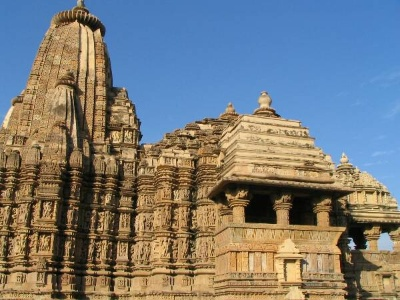amalaka: (46, 5, 110, 37)
gopuram: (29, 23, 123, 154)
mandapa: (207, 168, 351, 241), (341, 204, 399, 267)
